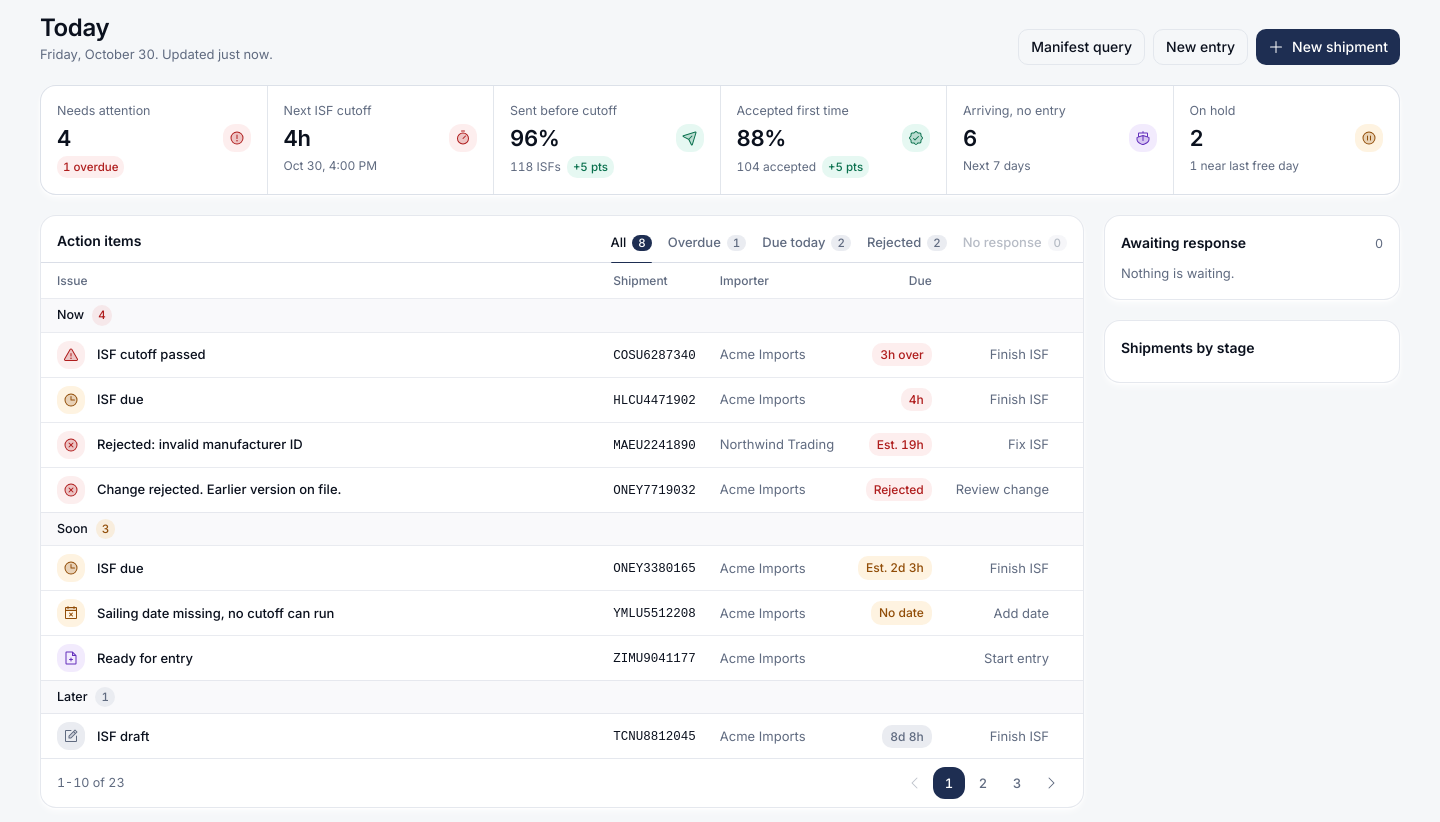
Test: DashboardHome › fetches the page you ask for
Click the button named "Page 2" at (983, 783), box [967,767,999,799]
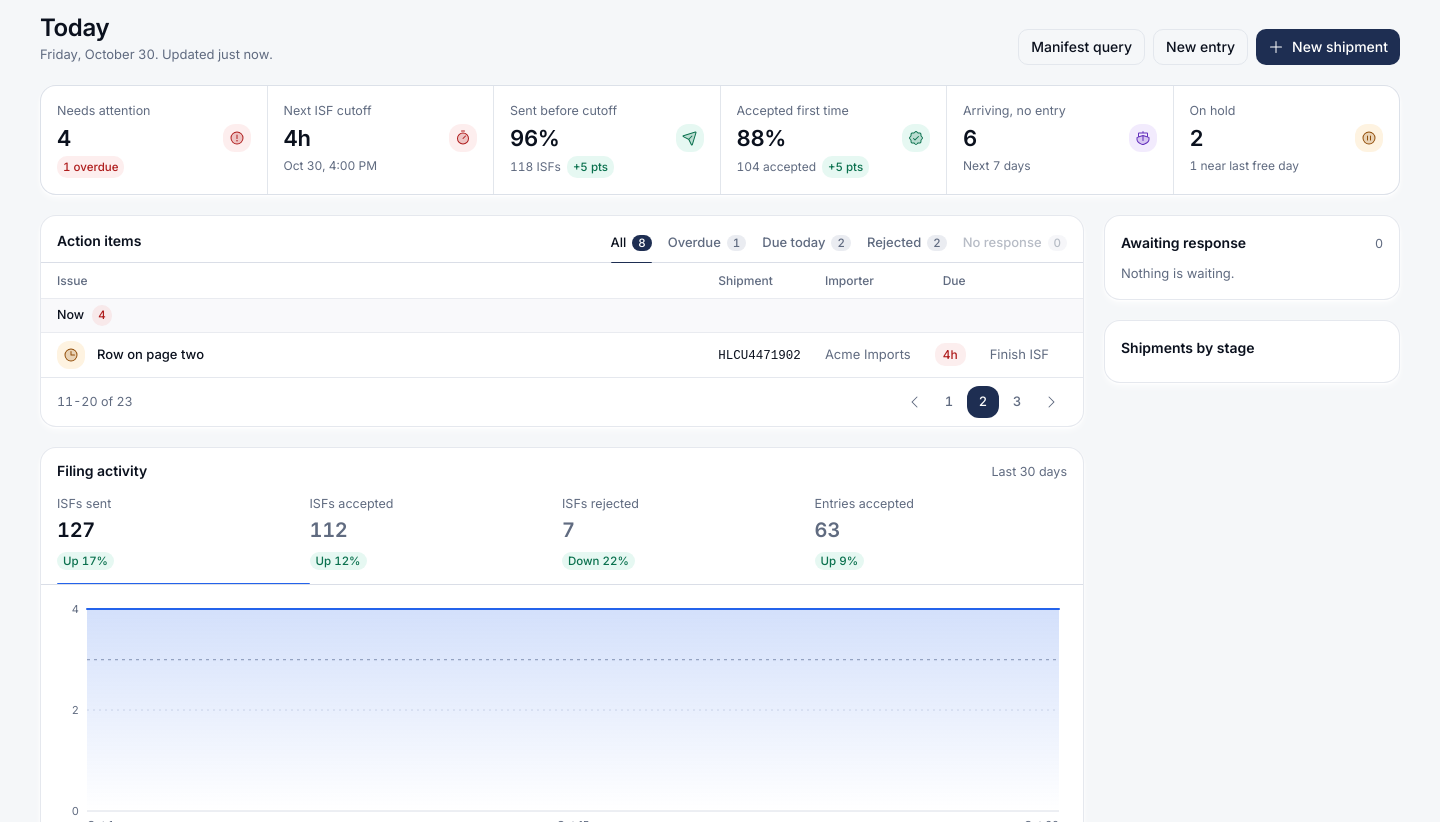
expect the link "Row on page two" is shown: met, box [97,346,204,362]
expect the text "11-20 of 23" is shown: met, box [57,392,133,412]
